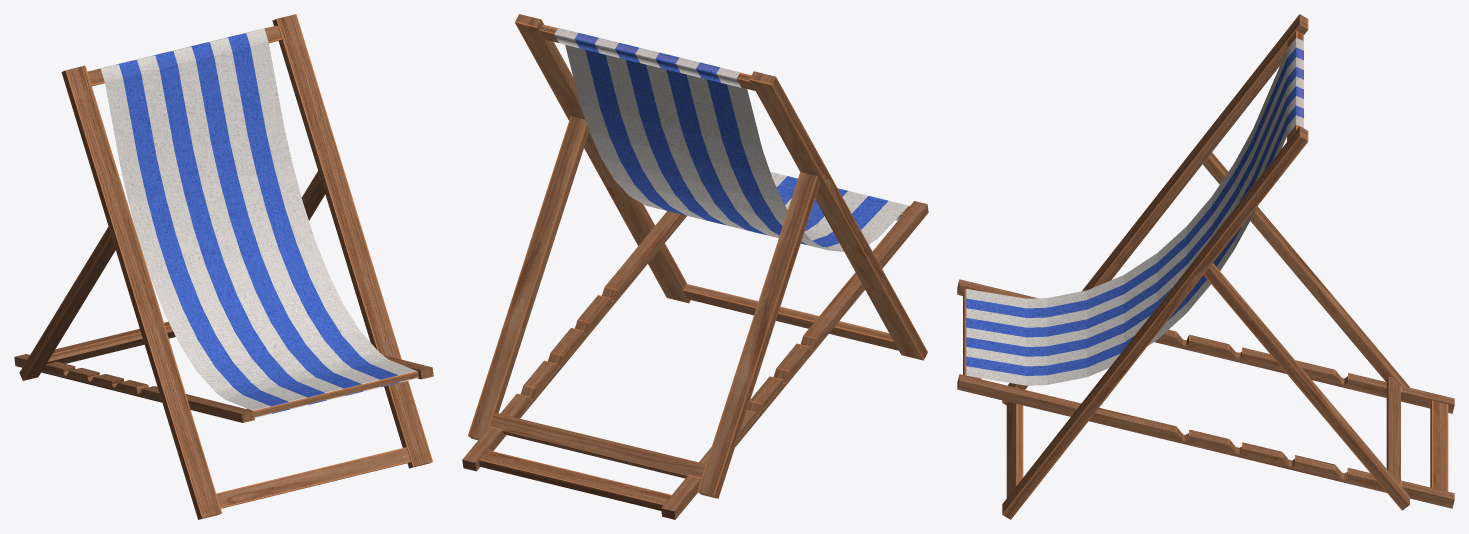
Rendered from blue strippes chair ok.fbx.
The picture shows the model from 3 angles, left to right: view 1: azimuth 30°, elevation 25°; view 2: azimuth 150°, elevation 25°; view 3: azimuth 270°, elevation 25°; orthographic projection. The views are drawn at different scales.
Parts seen in each view (by area): view 1: Mesh; view 2: Mesh; view 3: Mesh.
Part boxes in pixels (left/top/right/bottom): Mesh: left=14, top=14, right=433, bottom=519; Mesh: left=462, top=14, right=928, bottom=519; Mesh: left=957, top=14, right=1454, bottom=519.
Bounding box in the file's own units: 0.7855 × 1.15 × 1.35.
1 material, 1 textured.
